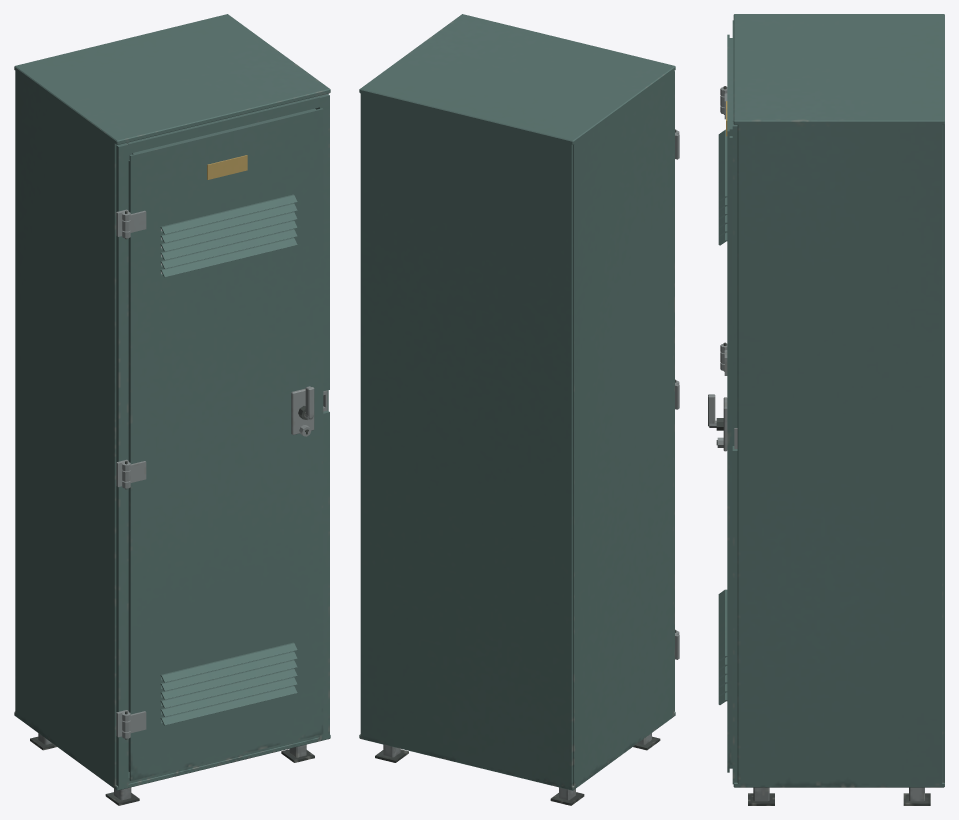
Rendered from bunker_metal_locker_closed.glb.
The picture shows the model from 3 angles, left to right: view 1: azimuth 30°, elevation 25°; view 2: azimuth 150°, elevation 25°; view 3: azimuth 270°, elevation 25°; orthographic projection. The views are drawn at different scales.
Parts seen in each view (by area): view 1: LockerDoor, LockerBody; view 2: LockerBody; view 3: LockerBody, LockerDoor.
Part boxes in pixels (x1,y1,x2,y2): LockerDoor: [122, 108, 323, 780]; LockerBody: [14, 14, 330, 805]; LockerBody: [359, 14, 679, 805]; LockerBody: [720, 14, 944, 805]; LockerDoor: [716, 34, 734, 772].
Size of what is drawn, in the model's own units: 0.603 by 1.8 by 0.5605.
1 material, 1 textured.
